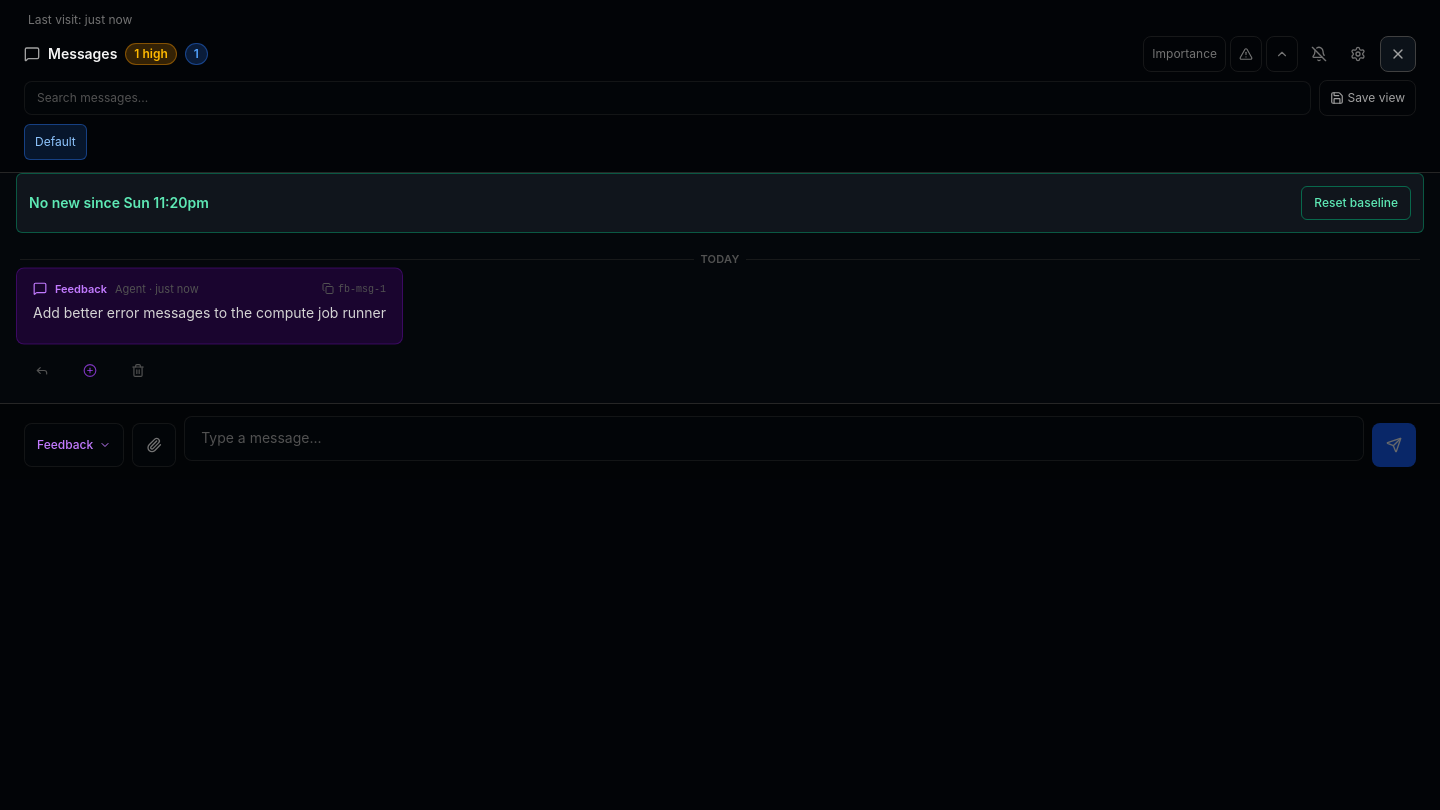
Test: MessagesPanel convert-to-direction modal › handleSubmitConvertForm success: POSTs direction, PATCHes resolution, closes modal
Open the modal
Click the button named "Create Direction". click: (90, 371)
box: [68,349,112,393]
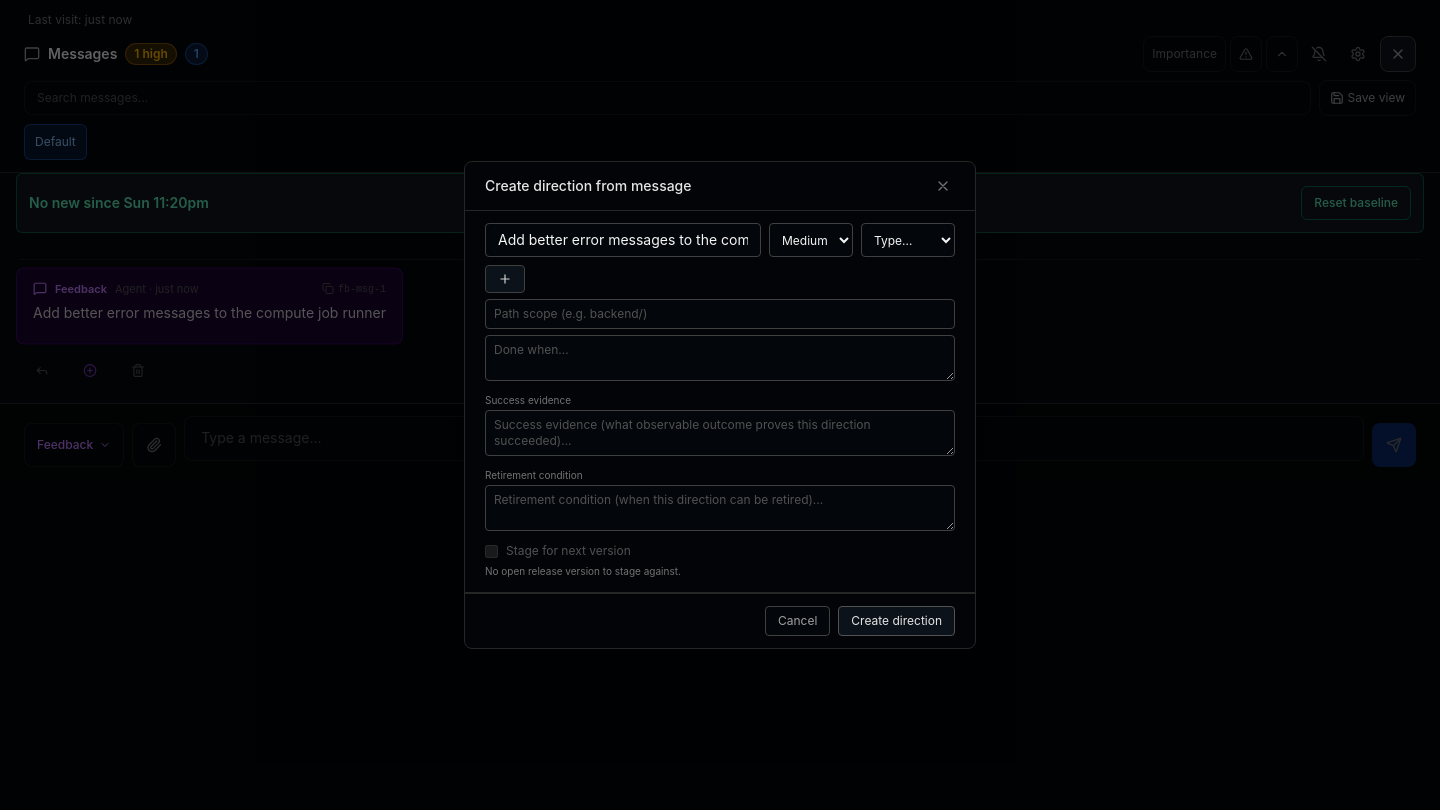
Expected: the button "Create direction" is shown
Click the button "Create direction". click: (897, 621)
box: [838,606,955,636]
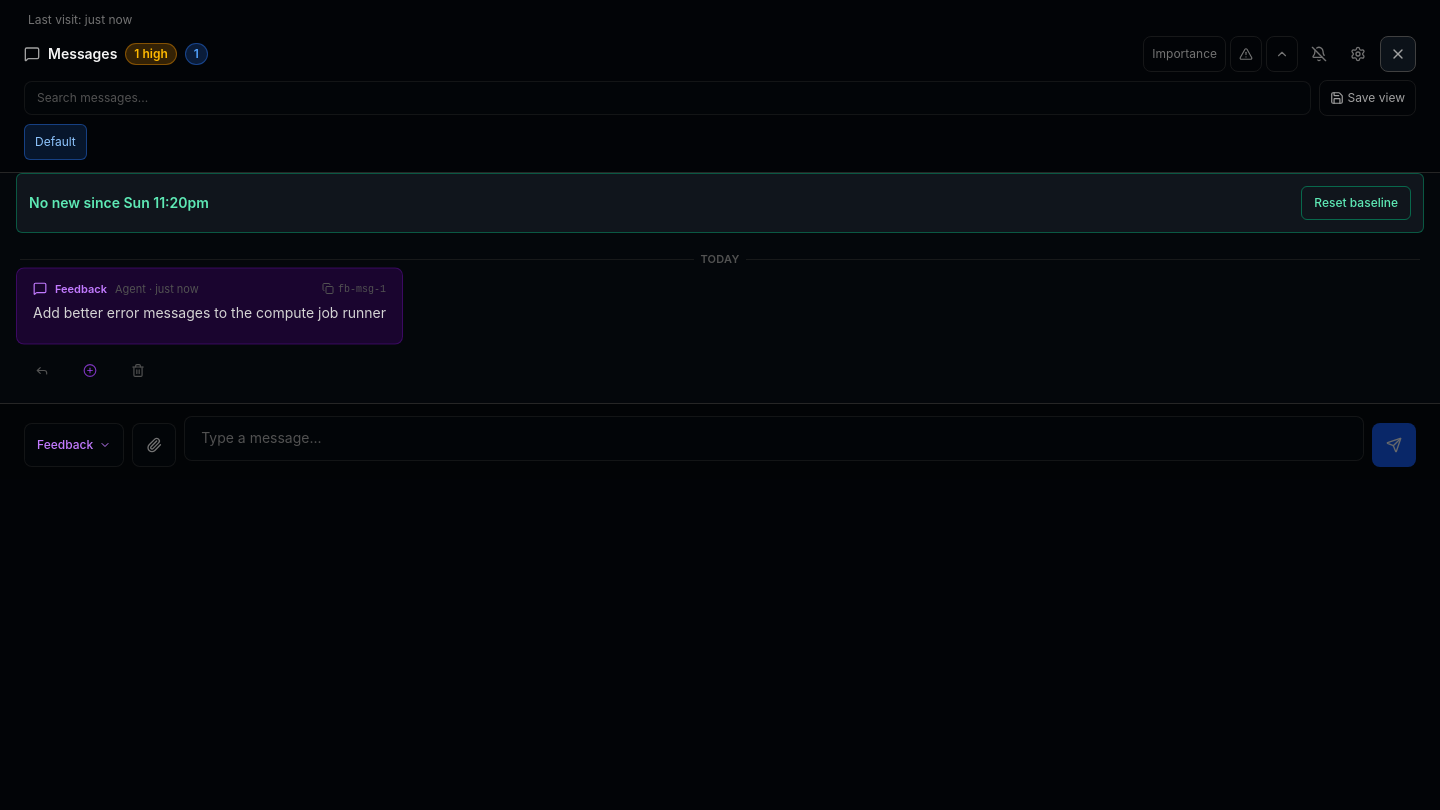
Expected: the text "Add better error messages to the compute job runner" is shown, [33,301,386,324]
Expected: the dialog is gone
